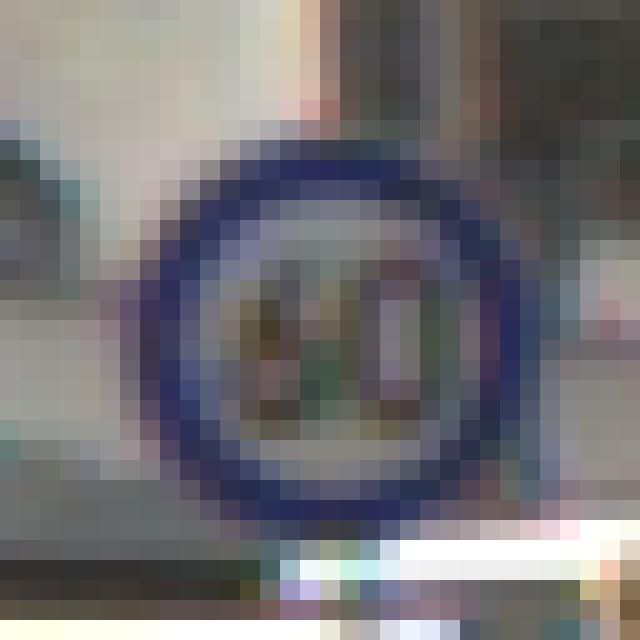SPEED-LIMIT-60: (114, 130, 548, 565)
